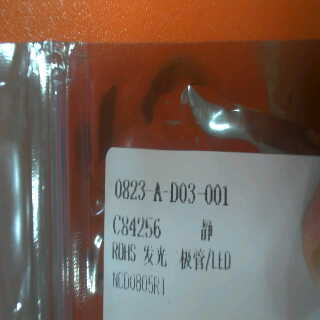LED: (140, 242, 240, 275)
